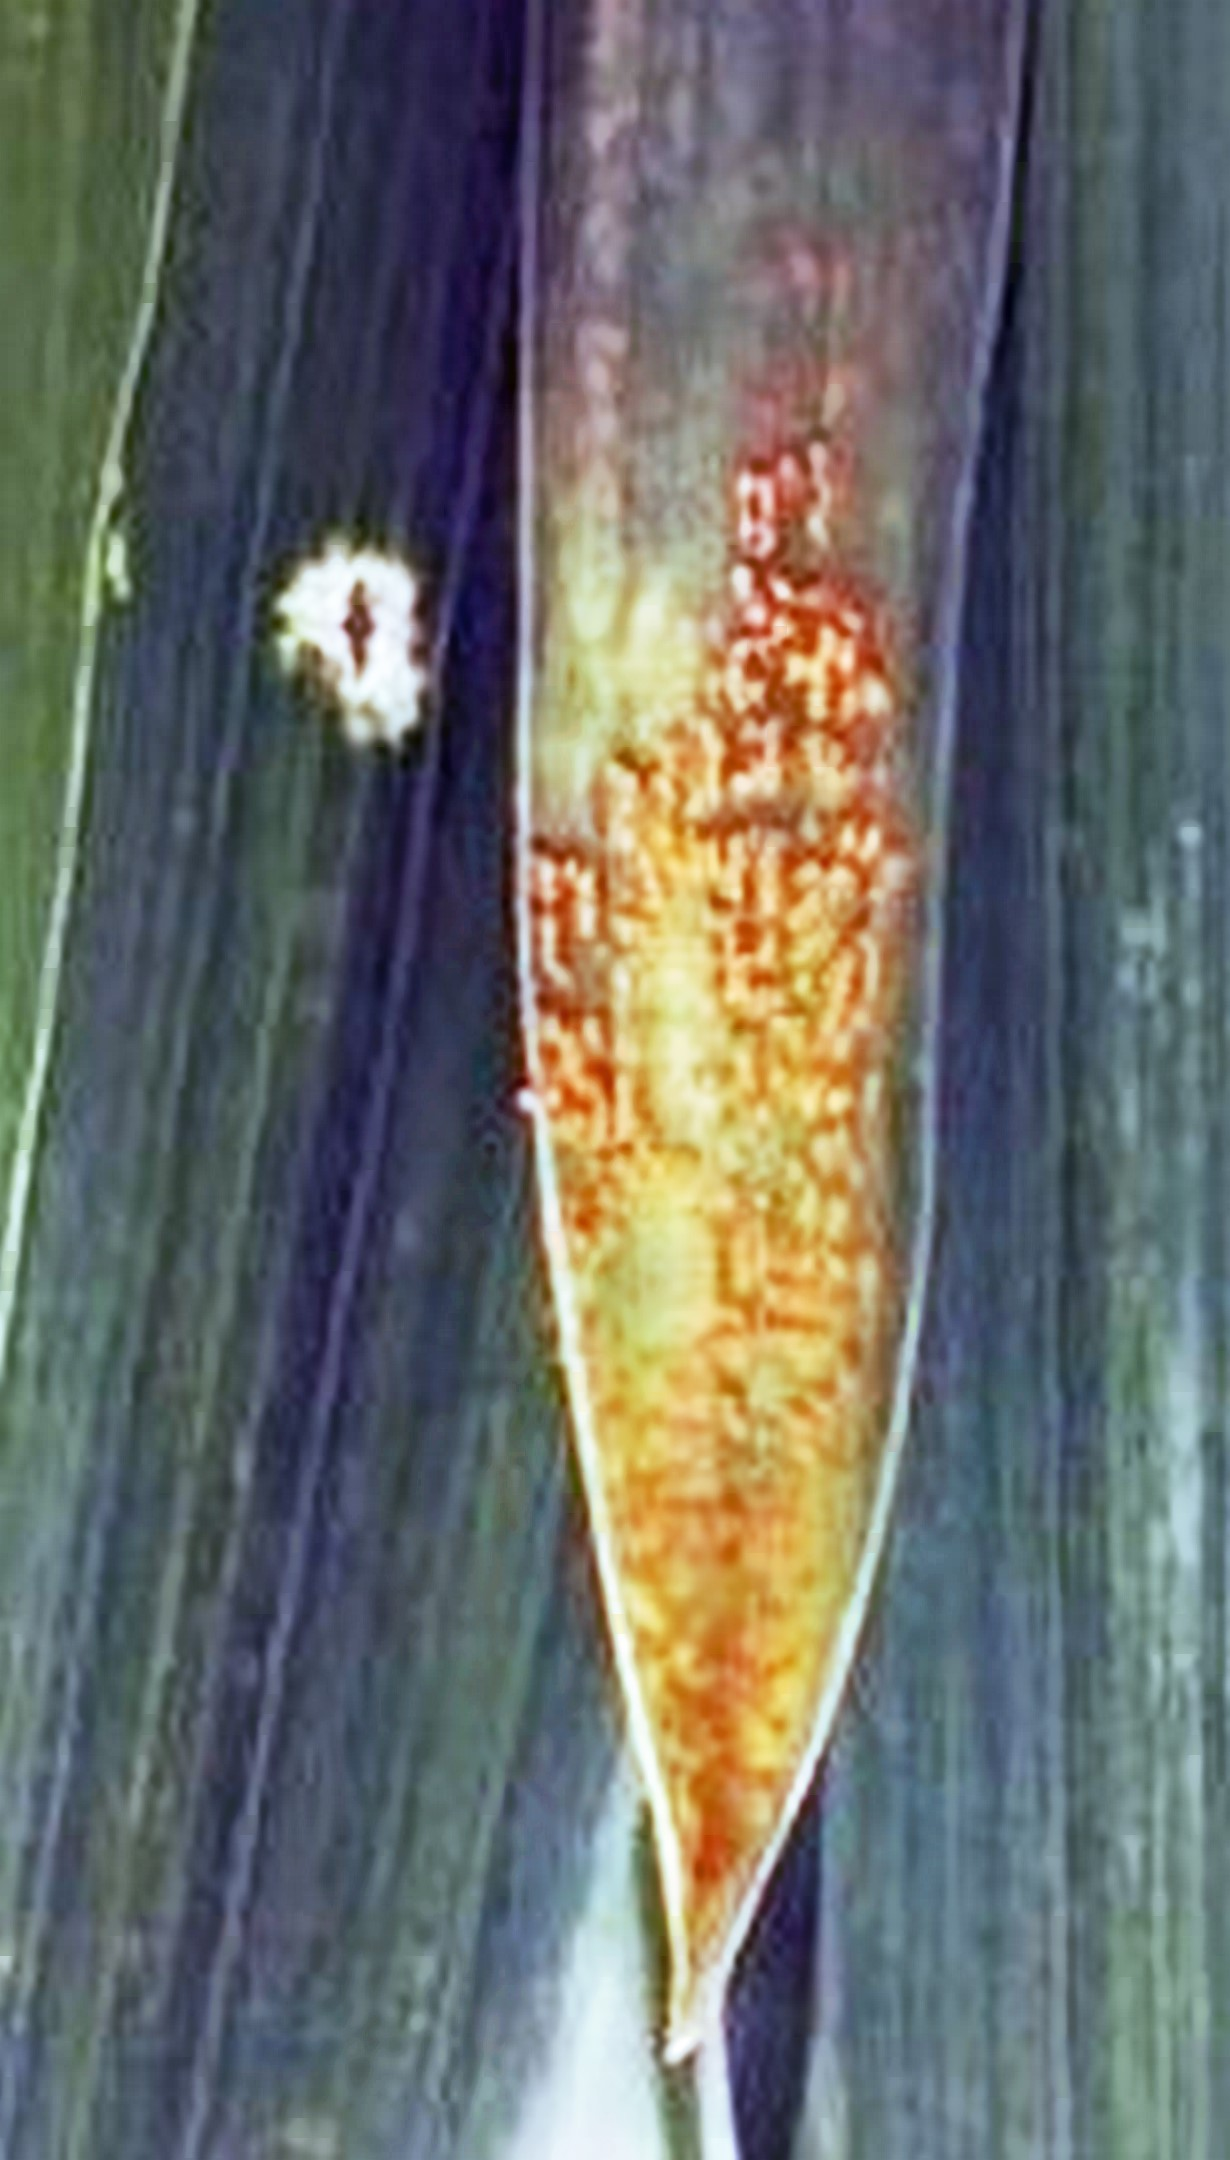Leaf Rust: (488, 303, 1036, 1908)
